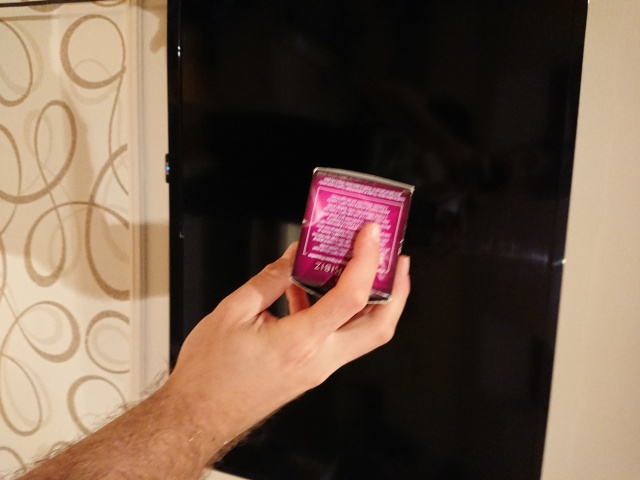Franck Black Currant Tea 60g: (286, 164, 418, 308)
